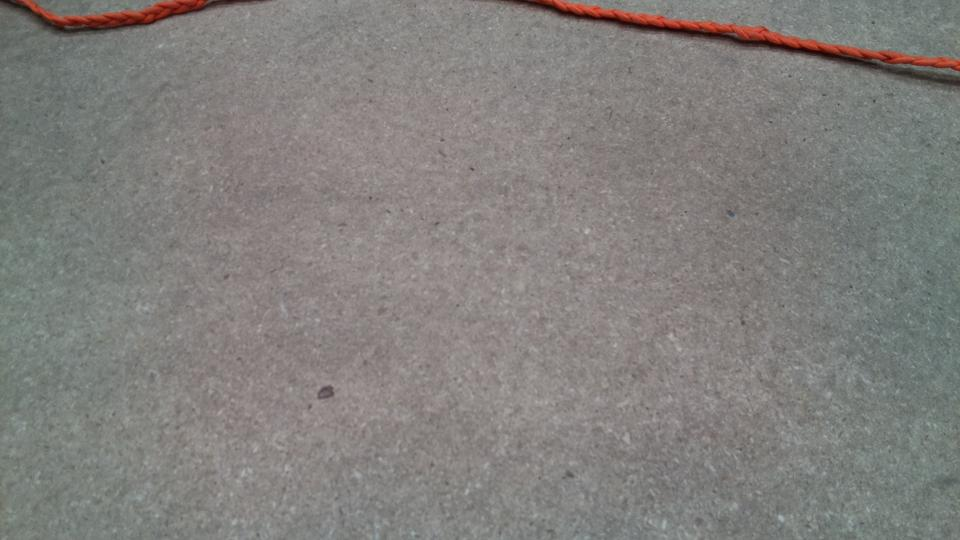rope: (1, 1, 960, 75)
